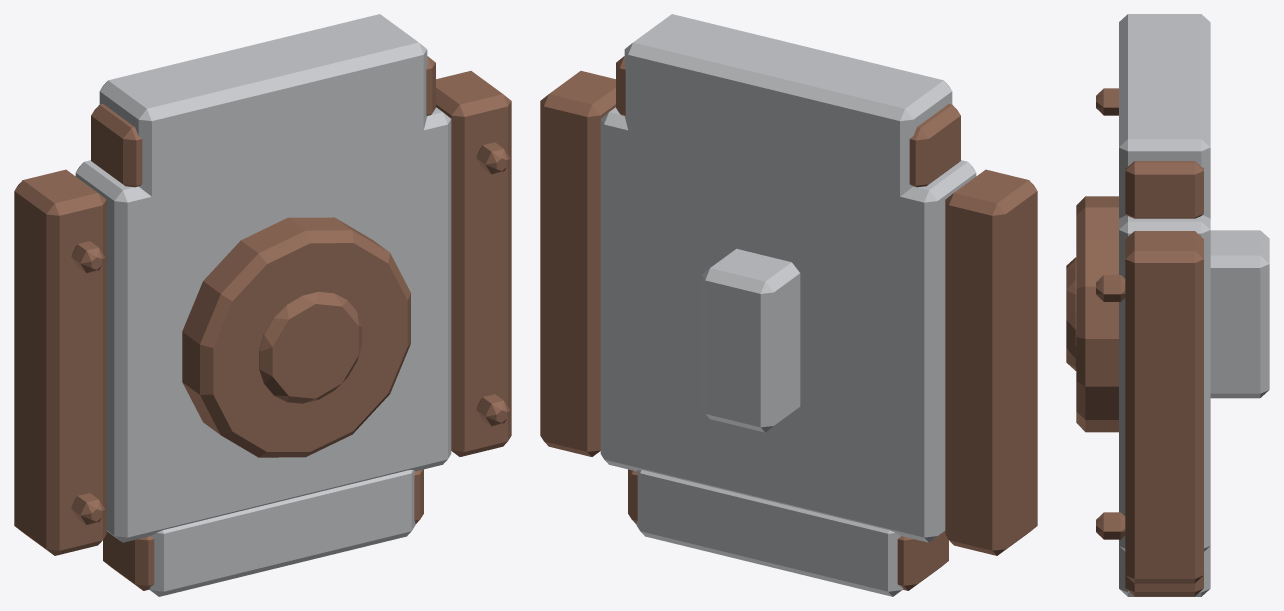
The model's file is PU_Invulnerability.fbx.
The picture shows the model from 3 angles, left to right: view 1: azimuth 30°, elevation 25°; view 2: azimuth 150°, elevation 25°; view 3: azimuth 270°, elevation 25°; orthographic projection. The views are drawn at different scales.
Parts seen in each view (by area): view 1: PU_Invulnerability; view 2: PU_Invulnerability; view 3: PU_Invulnerability.
Boxes of the visible parts, x1,y1,x2,y2 form: PU_Invulnerability: (14, 14, 511, 596); PU_Invulnerability: (540, 14, 1037, 596); PU_Invulnerability: (1066, 14, 1269, 596).
Size of the model in its own units: 0.4124 by 0.416 by 0.1653.
